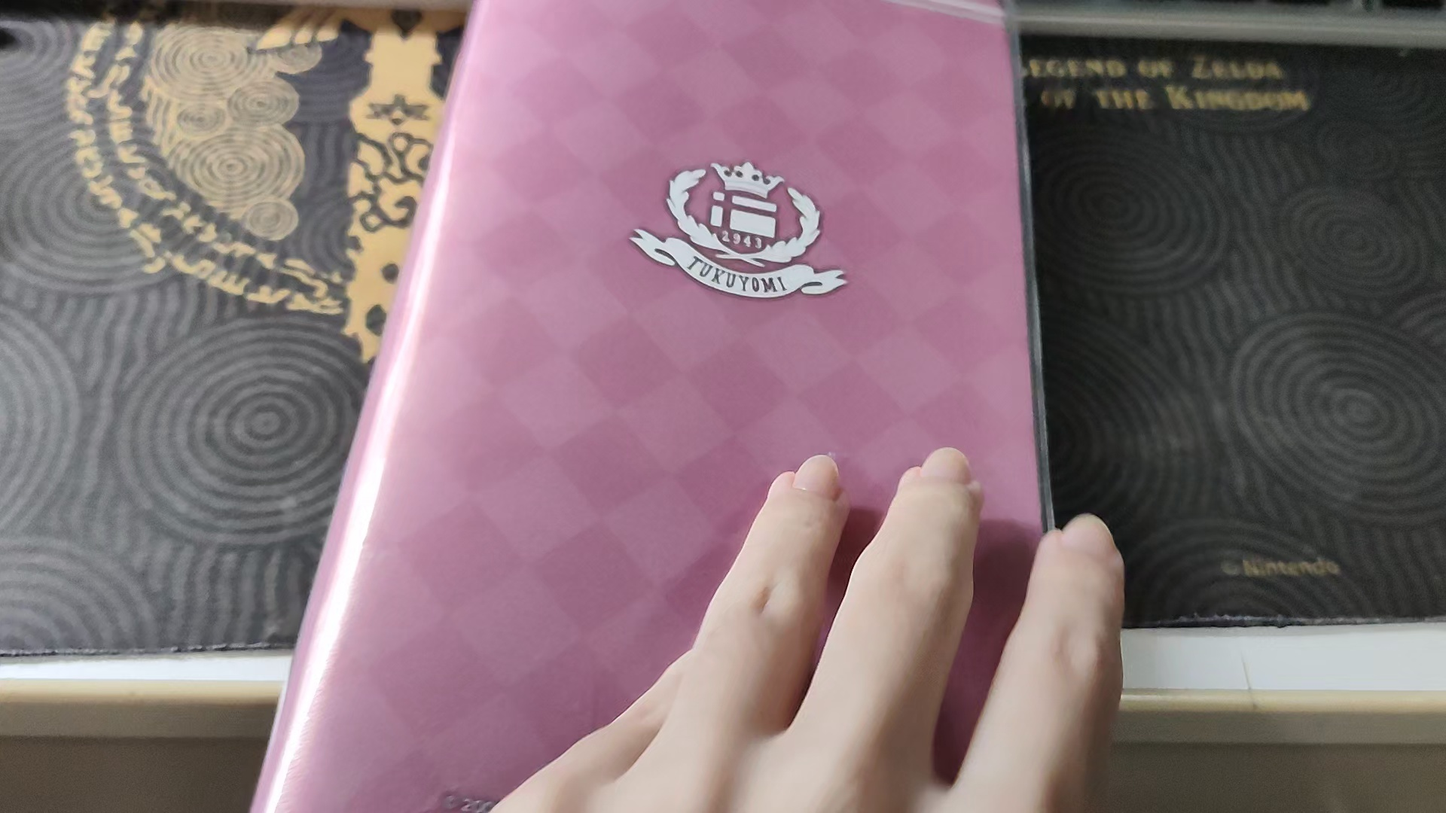Photo_book: (240, 0, 1066, 813)
